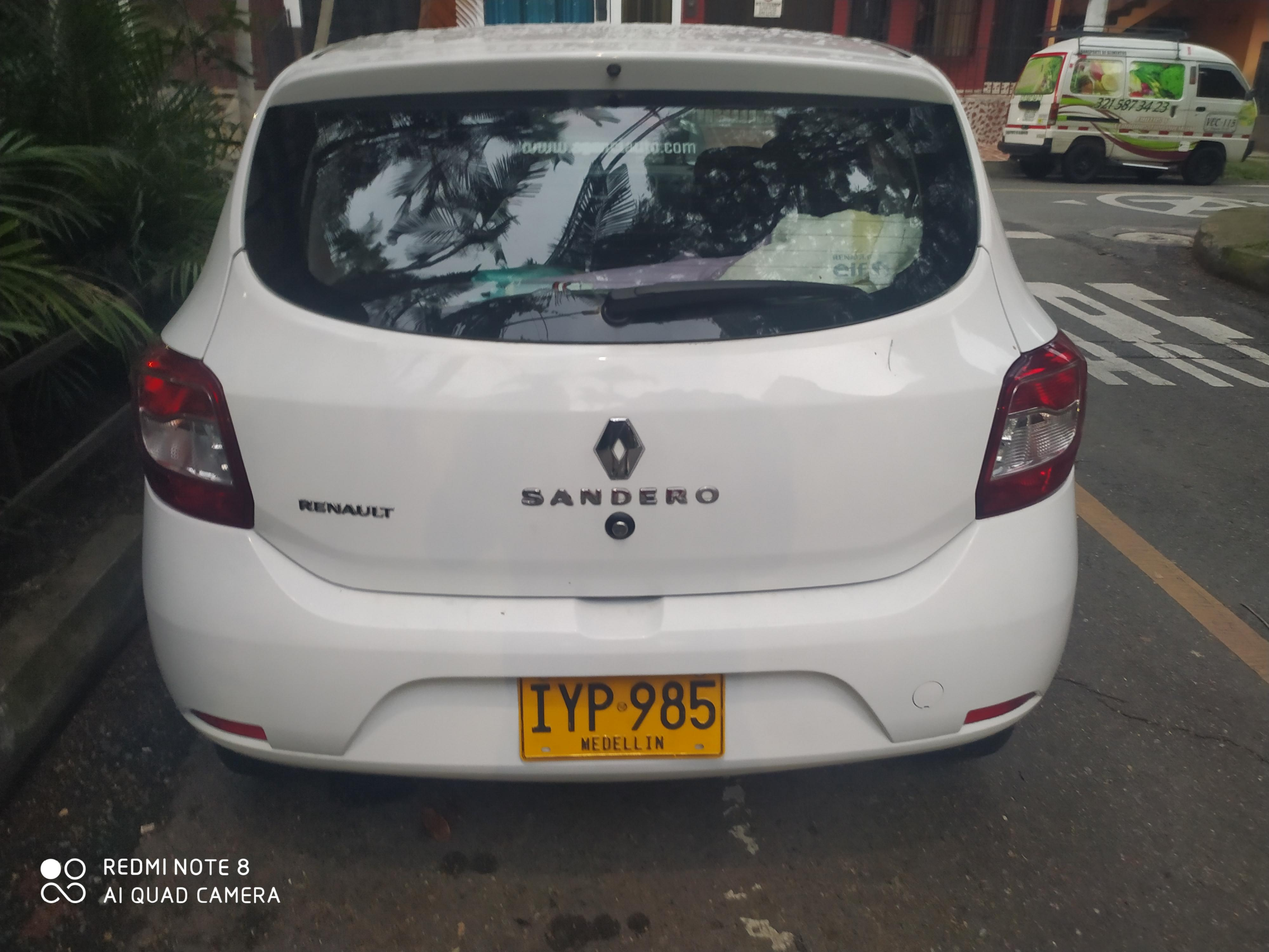placa: (511, 668, 736, 765)
